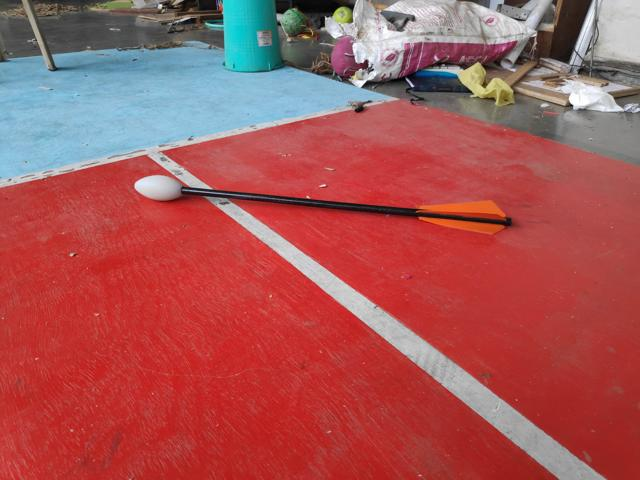Head: (131, 170, 184, 204)
Tail: (413, 194, 516, 239)
